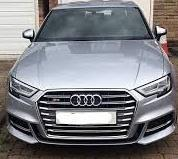Cars: (8, 3, 176, 146)
